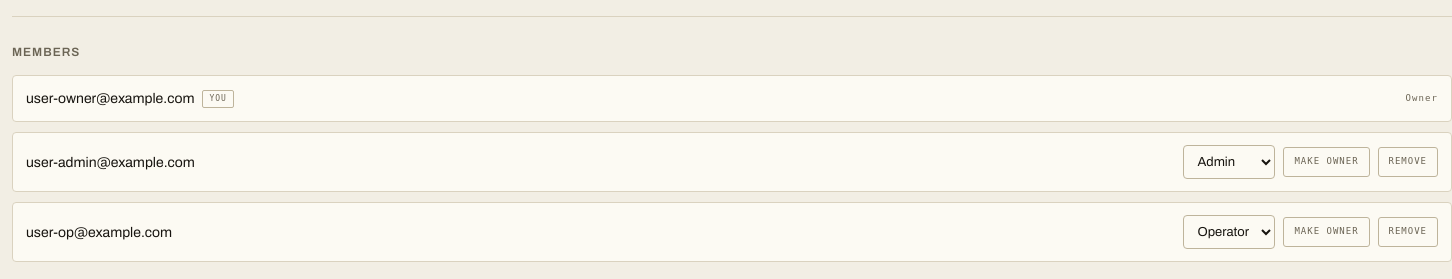
MemberList ownership transfer › can be cancelled without transferring
Click the button "MAKE OWNER" in the row of "user-admin@example.com".
click(1327, 162)  # box [1284,147,1370,177]
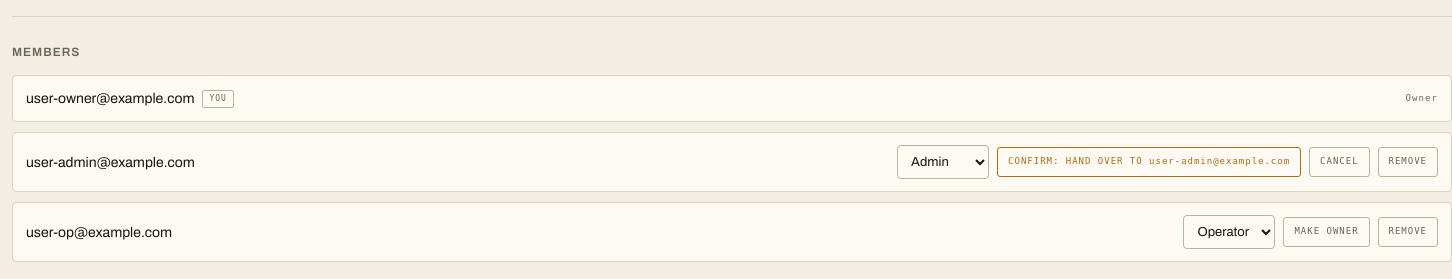
Click the button "CANCEL".
click(1339, 162)  # box [1309,147,1370,177]
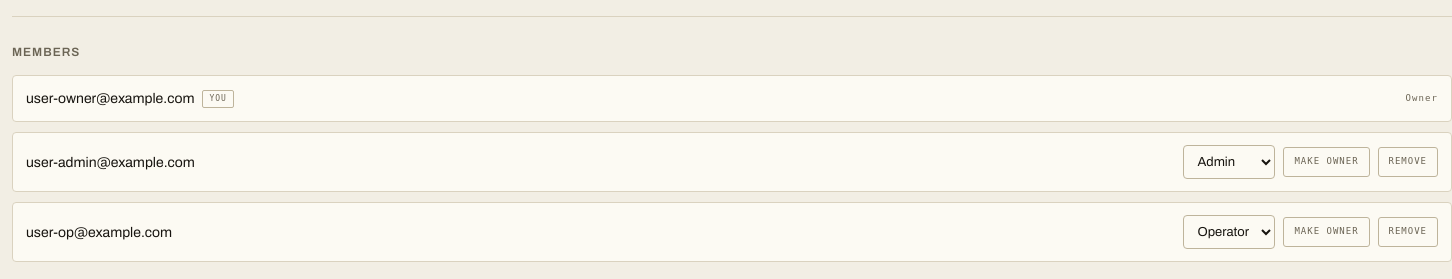
Expected: the button "MAKE OWNER" in the row of "user-admin@example.com" is shown, [1284,147,1370,177]
